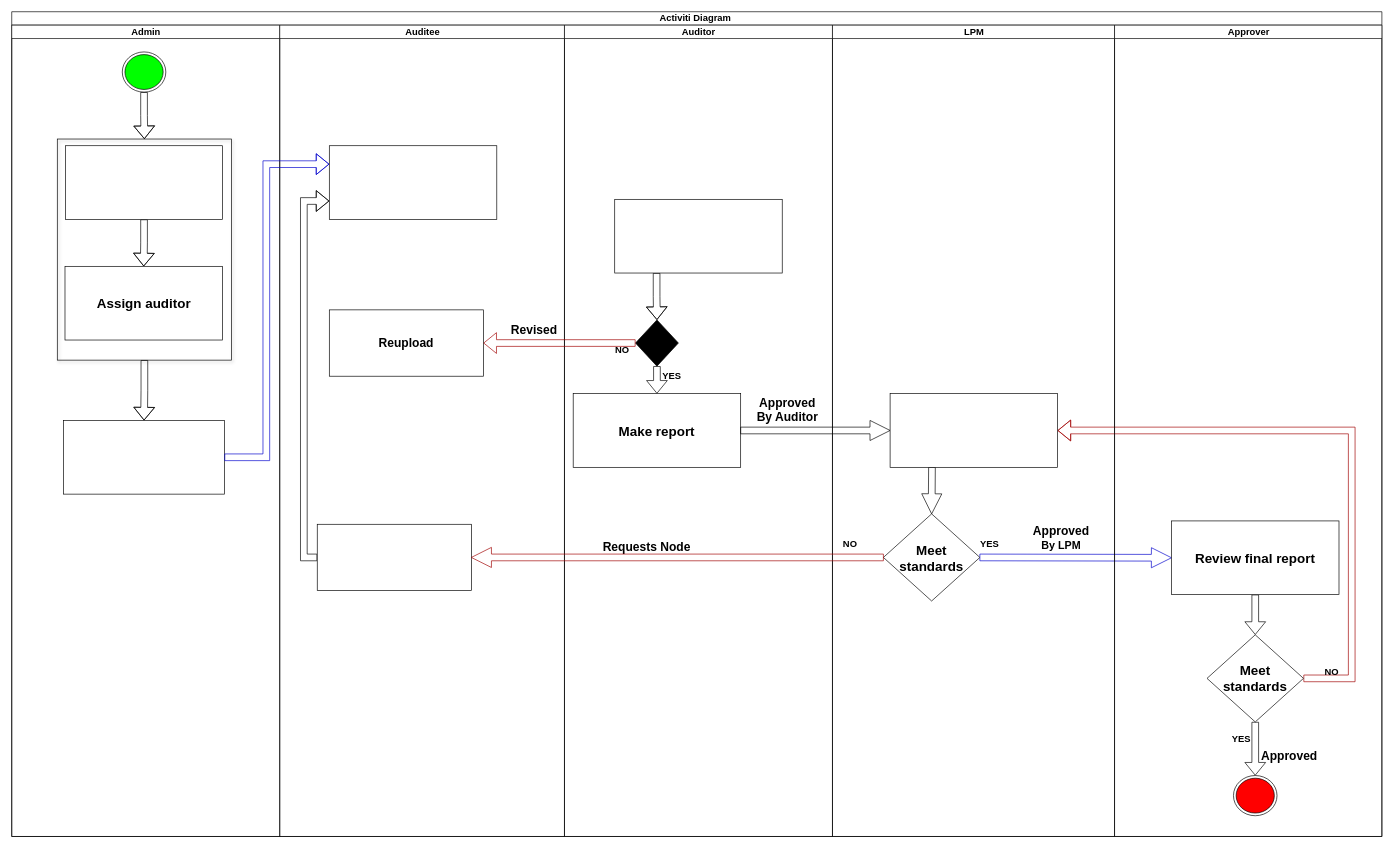
Image size: 1394x848. Some labels were removed from this diagram. Here are the shapes that lost their labels. From the top down, the centre of each, then its label:
At (143,182): "Create audit plan".
At (413,182): "Upload link /Document".
At (698,236): "Review document".
At (973,430): "Review audit report".
At (143,457): "Determine standard".
At (394,557): "Give a note".
